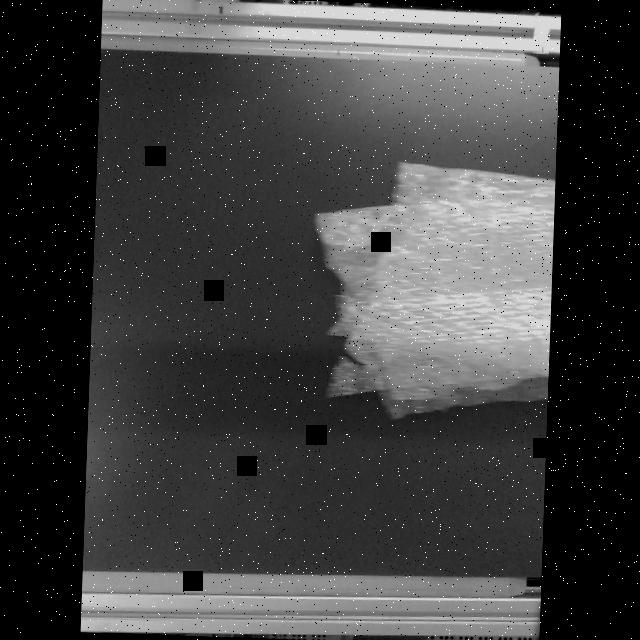scrap_plastic: (299, 156, 553, 423)
